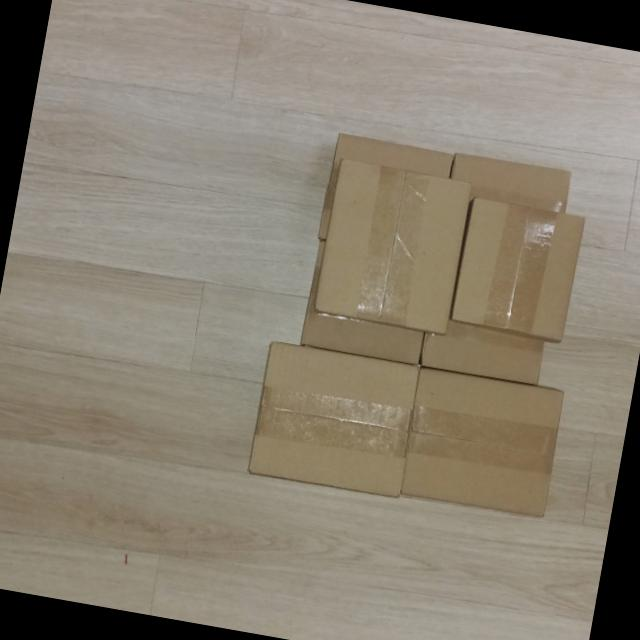box: (305, 153, 478, 344), (240, 336, 423, 507), (396, 361, 572, 527), (443, 191, 591, 350)
